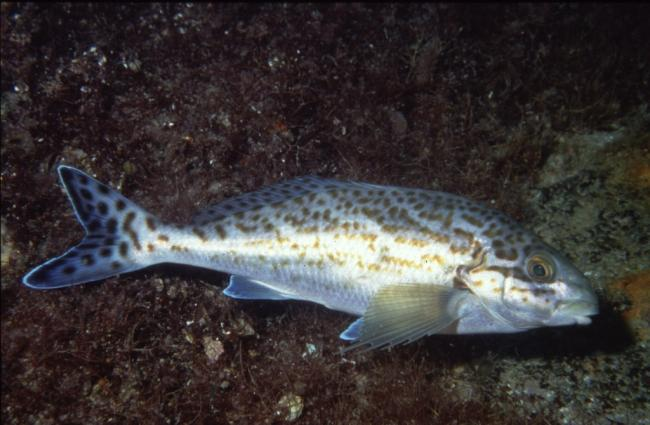fish: (22, 165, 601, 359)
